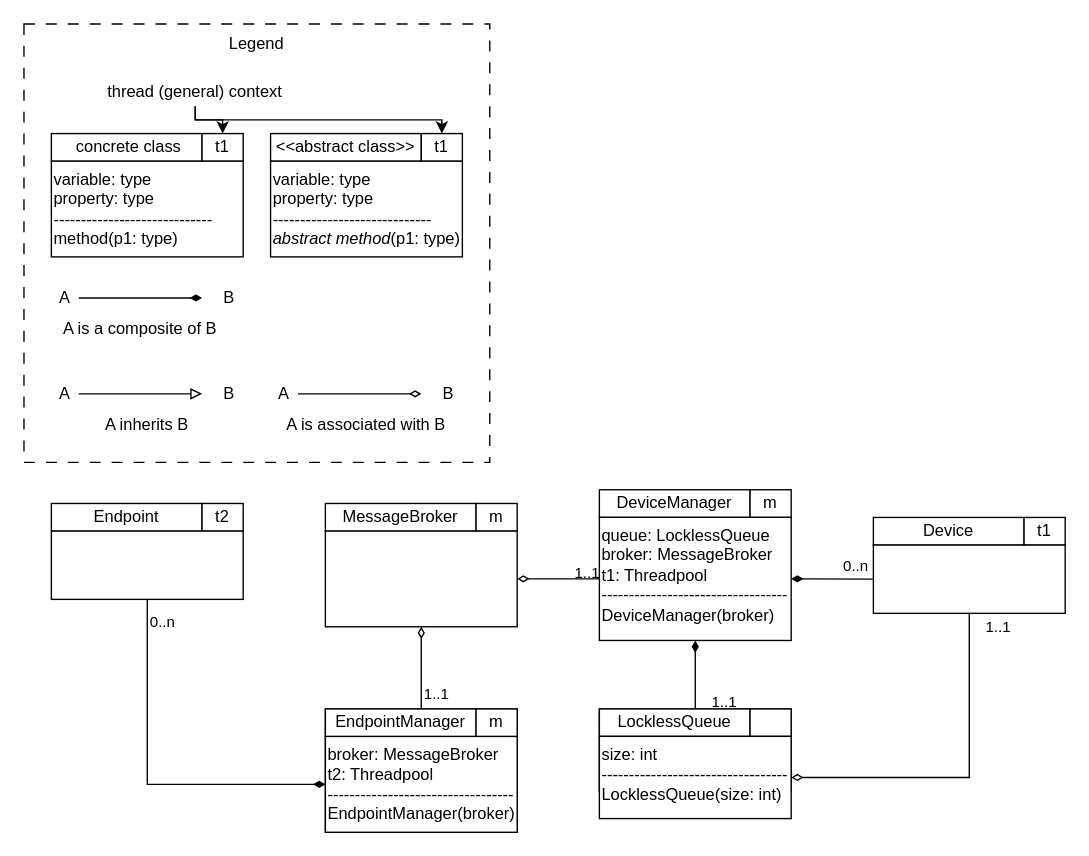
This 1089x856 diagram has some shape labels left out. Here are the shapes that lost their labels. From the top down, the centre of each, then its label:
point 146,564: ---------------------------------- Endpoint(settings)
point 420,578: ---------------------------------- MessageBroker()
point 968,578: queue: LocklessQueue ---------------------------------- Device(settings, queue)
